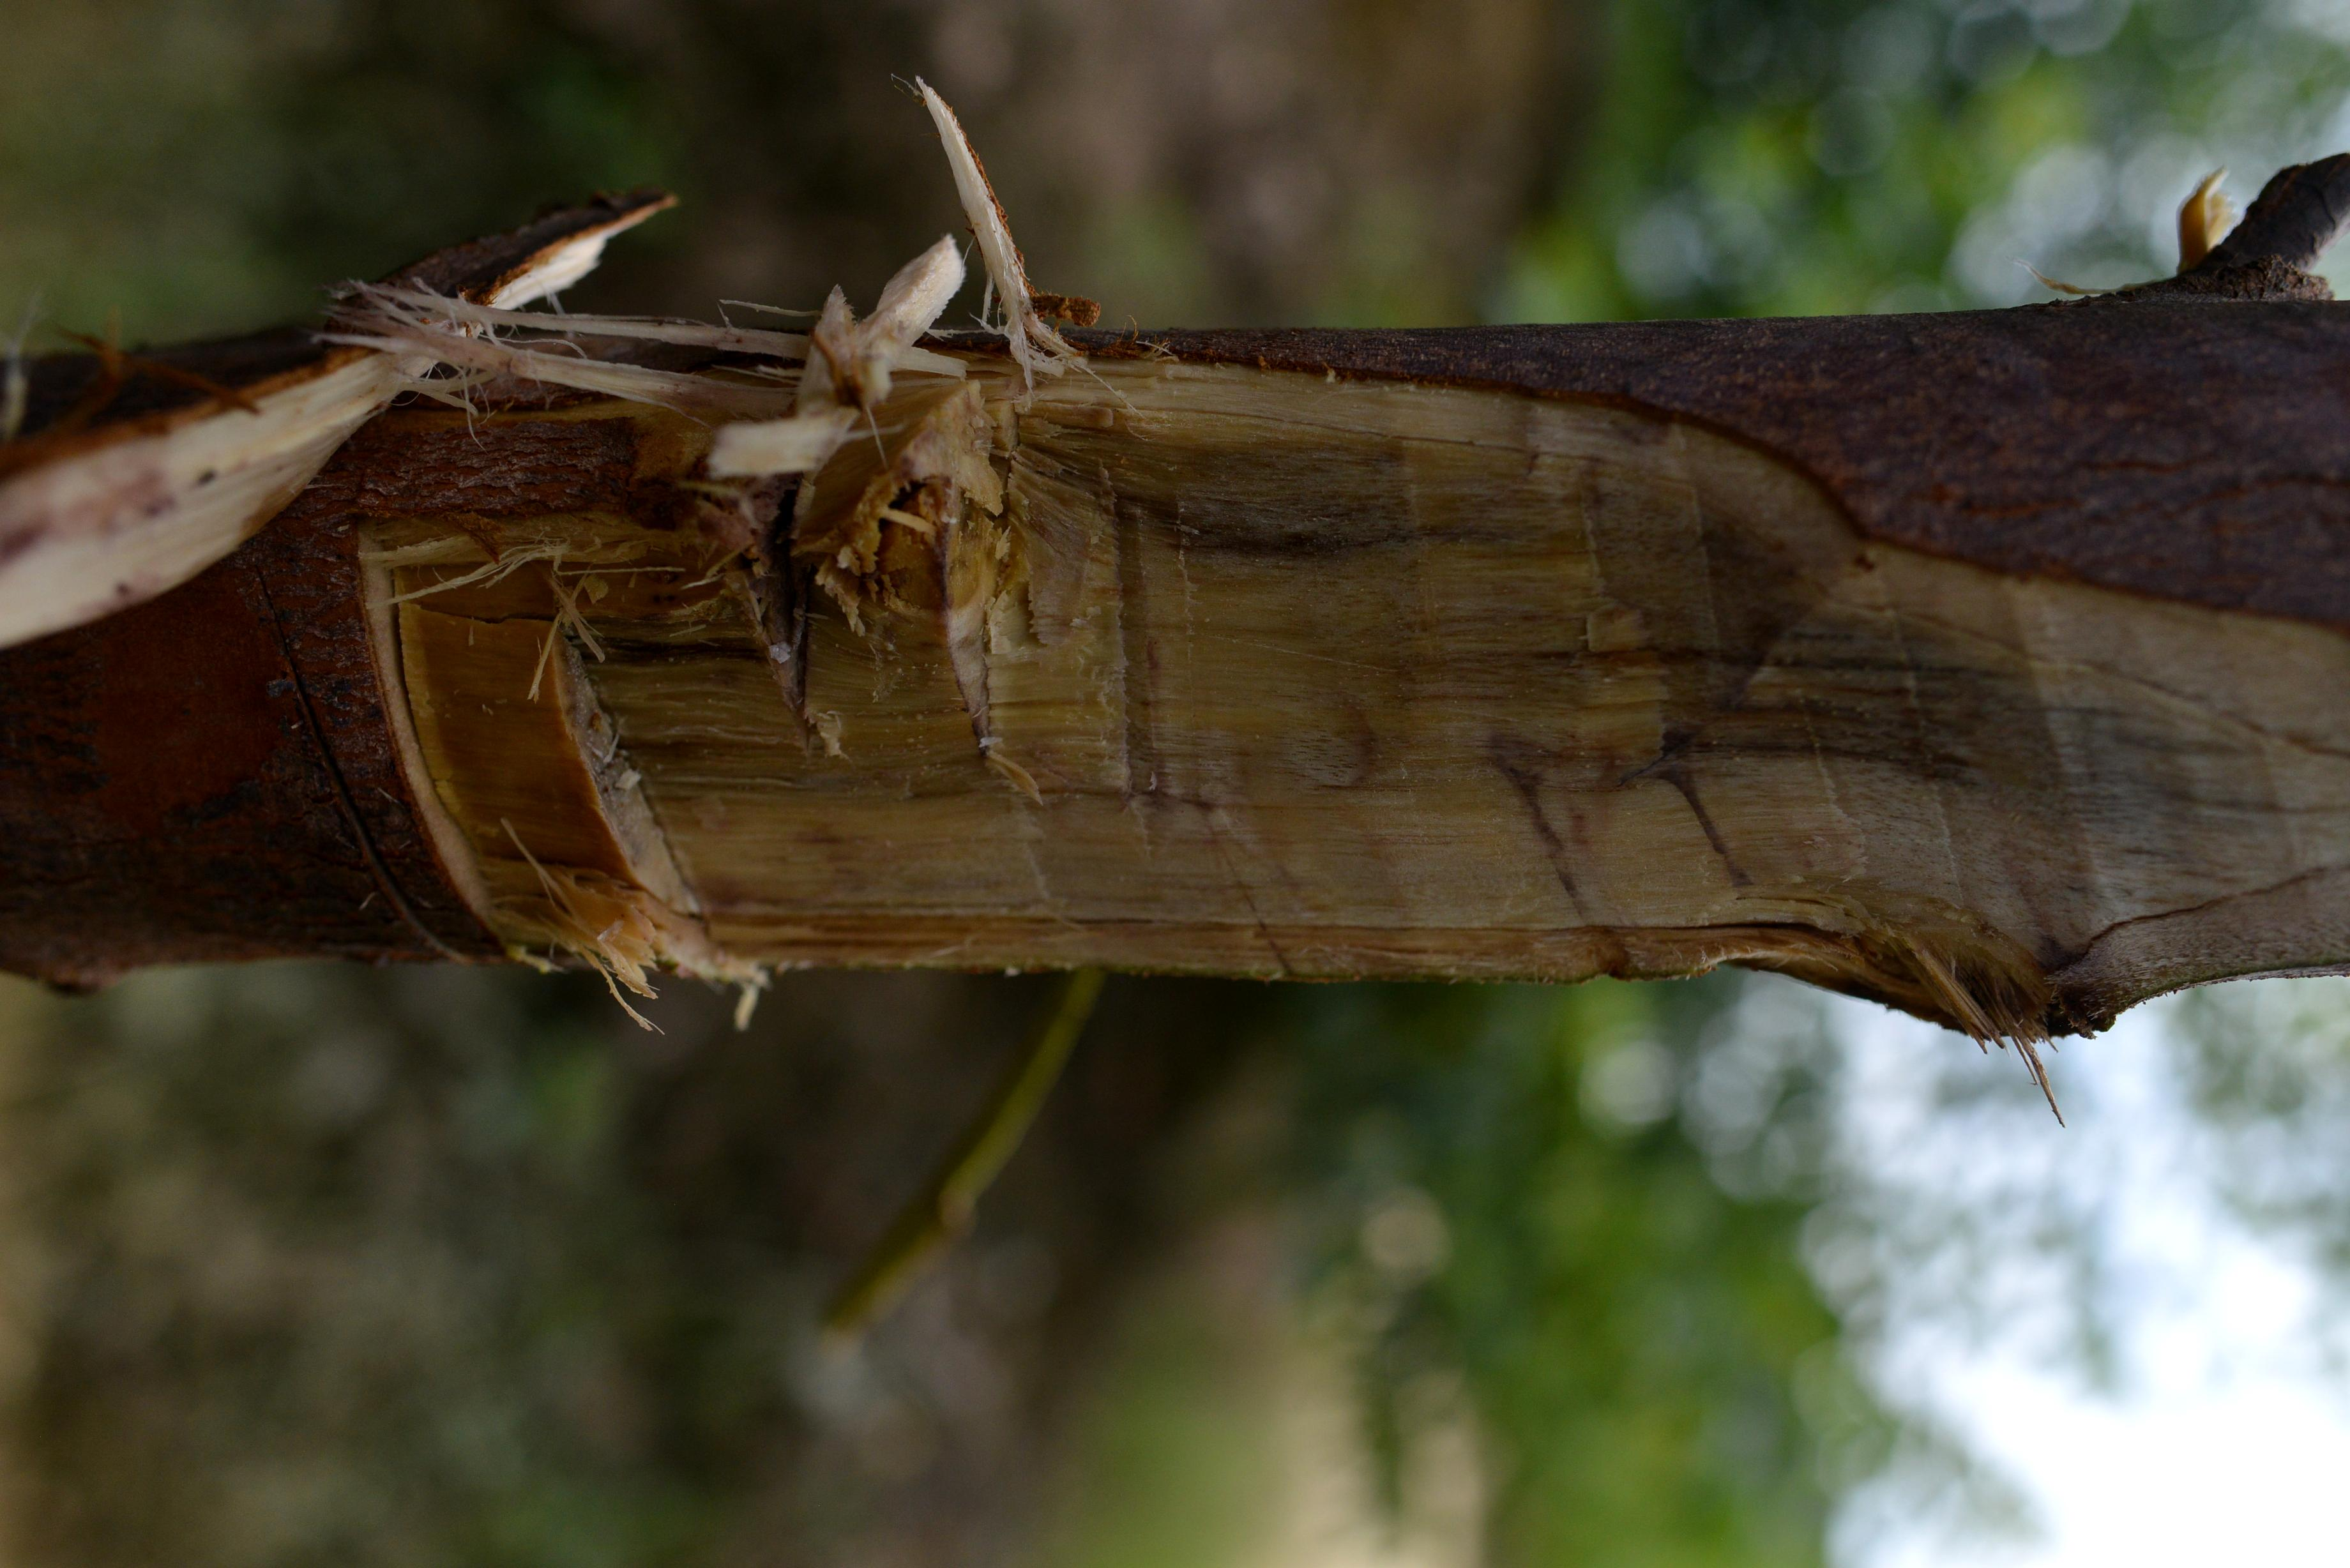Ralstonia: (310, 348, 2336, 987)
